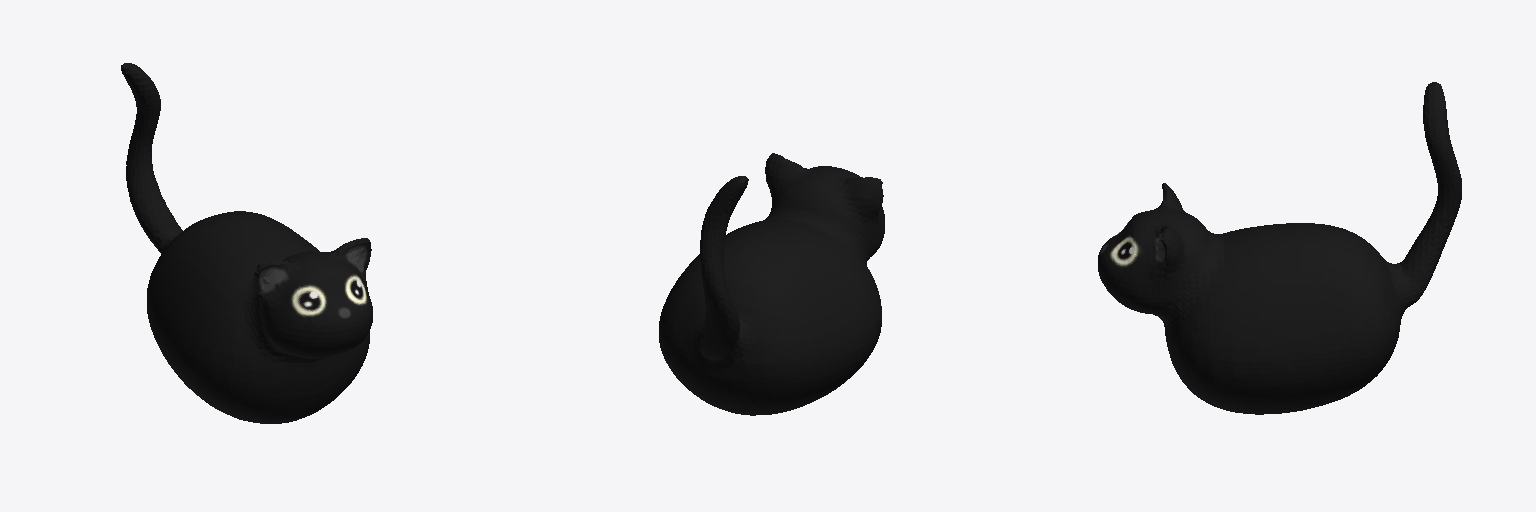
3 renders of one model, left to right at view 1: azimuth 30°, elevation 25°; view 2: azimuth 150°, elevation 25°; view 3: azimuth 270°, elevation 25°, orthographic.
Visible parts, largest first — view 1: Cube.001_Cube.002; view 2: Cube.001_Cube.002; view 3: Cube.001_Cube.002.
Boxes of the visible parts, box(x1,y1,x2,y2) form: Cube.001_Cube.002: box(121, 63, 372, 423); Cube.001_Cube.002: box(659, 153, 884, 415); Cube.001_Cube.002: box(1098, 82, 1461, 414).
Size of the model in its own units: 2.79 by 4.62 by 5.12.
Materials: 1 (1 with a texture image).